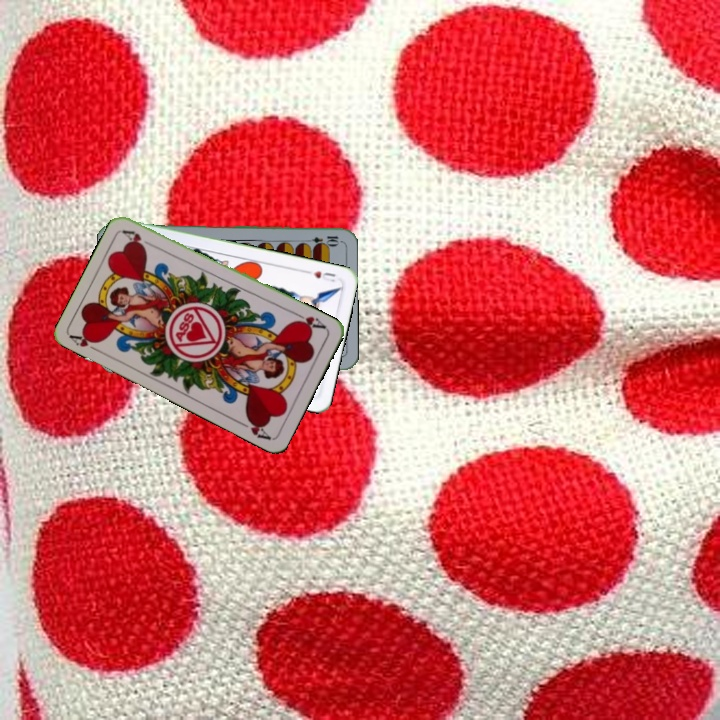E10: (301, 232, 341, 246)
HA: (67, 329, 105, 356), (290, 309, 329, 332)
HU: (302, 267, 339, 285)
